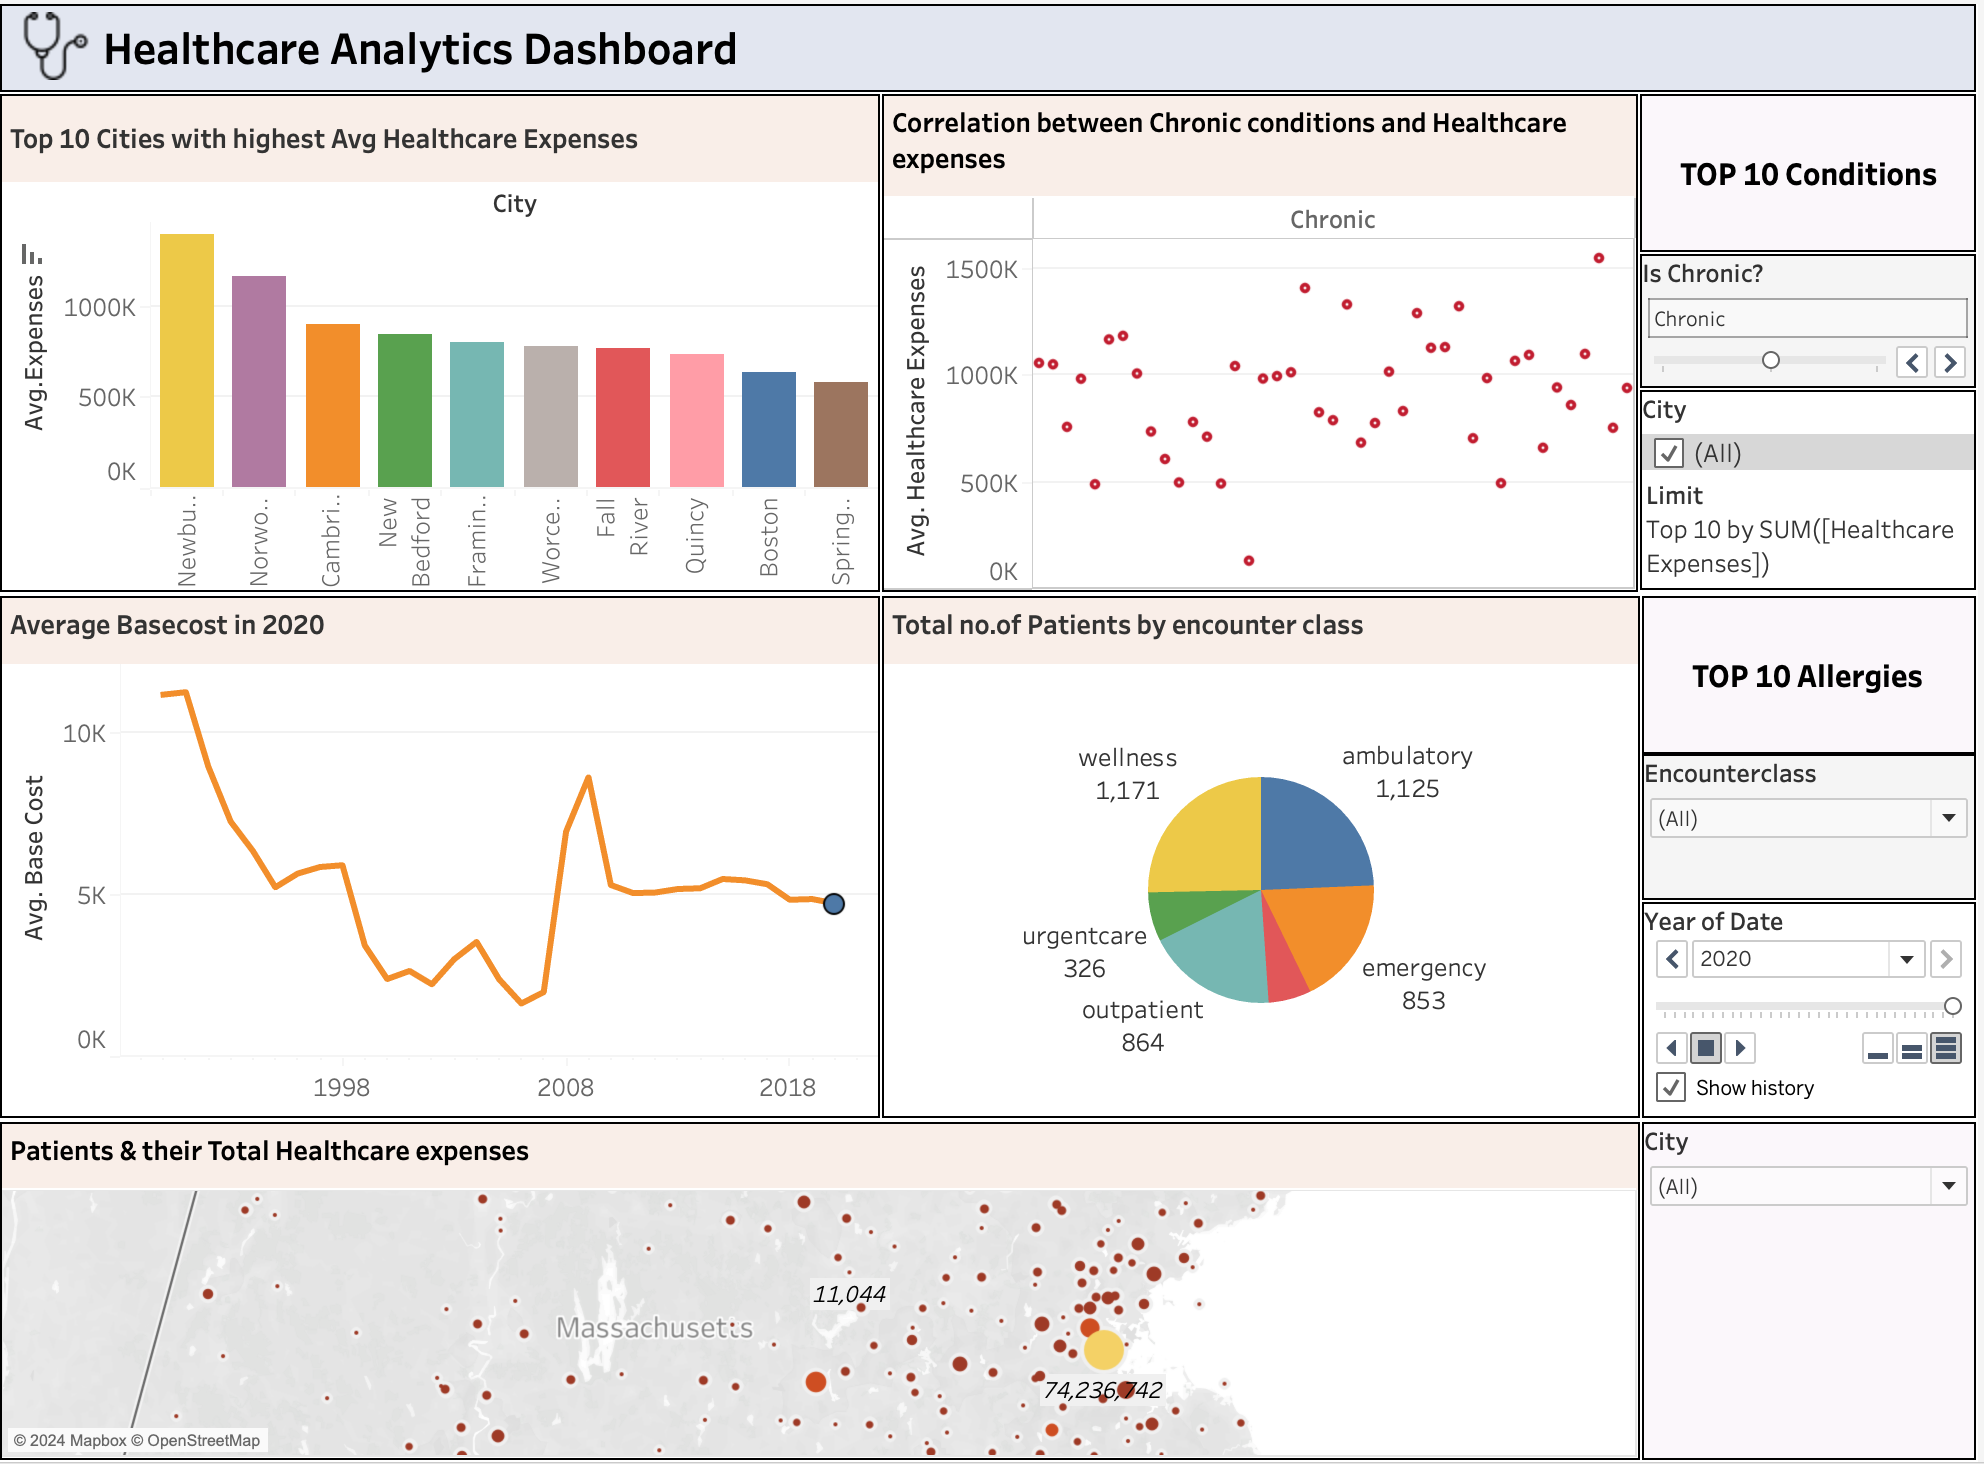

The page's visual inventory and layout, read from the dashboard file:
{"tool":"tableau","page":{"name":"Dashboard 1","canvas":[1000,800],"ordinal":0},"visuals":[{"type":"text","box":[60,1,365,41]},{"type":"image","param":"Image/stethoscope.png","box":[22,4,45,34]},{"type":"worksheet","title":"Top 10 cities","mark":"Automatic","rows":["HEALTHCARE_EXPENSES"],"cols":["CITY"],"box":[11,45,440,249]},{"type":"worksheet","title":"Chronic conditions","mark":"Shape","rows":["HEALTHCARE_EXPENSES"],"cols":["Calculation_4109956929666932739","CODE (ENCOUNTERS)"],"box":[452,45,378,249]},{"type":"filter","title":"Chronic conditions","param":"[federated.0kf4cne1tpnreu13mptq818z5uv9].[none:Calculation_4109956929666932739:n","box":[831,45,167,67]},{"type":"filter","title":"Top 10 cities","param":"[federated.0kf4cne1tpnreu13mptq818z5uv9].[none:CITY:nk]","box":[831,113,167,100]},{"type":"worksheet","title":"Animation showing Basecost ","mark":"Circle","rows":["BASE_COST (PROCEDURES)"],"cols":["DATE (PROCEDURES)"],"box":[11,296,440,261]},{"type":"worksheet","title":"Encounter class","mark":"Pie","box":[452,296,379,261]},{"type":"filter","title":"Encounter class","param":"[federated.0kf4cne1tpnreu13mptq818z5uv9].[none:ENCOUNTERCLASS:nk]","box":[832,296,166,62]},{"type":"currpage","title":"Animation showing Basecost ","box":[832,359,167,108]},{"type":"worksheet","title":"Geospatial Analysis","mark":"Automatic","rows":["LAT"],"cols":["LON"],"box":[11,559,989,169]}]}

Visuals, with their boxes on the page's 1000x800 design canvas (x1, y1, x2, y2). These are canvas units, not pixel positions in the 1984x1464 screenshot, which may show the page scaled, cropped or inside an application window:
text: 60 1 425 42
image: 22 4 67 38
"Top 10 cities" worksheet: 11 45 451 294
"Chronic conditions" worksheet (Shape marks): 452 45 830 294
"Chronic conditions" filter: 831 45 998 112
"Top 10 cities" filter: 831 113 998 213
"Animation showing Basecost " worksheet (Circle marks): 11 296 451 557
"Encounter class" worksheet (Pie marks): 452 296 831 557
"Encounter class" filter: 832 296 998 358
"Animation showing Basecost " currpage: 832 359 999 467
"Geospatial Analysis" worksheet: 11 559 1000 728
